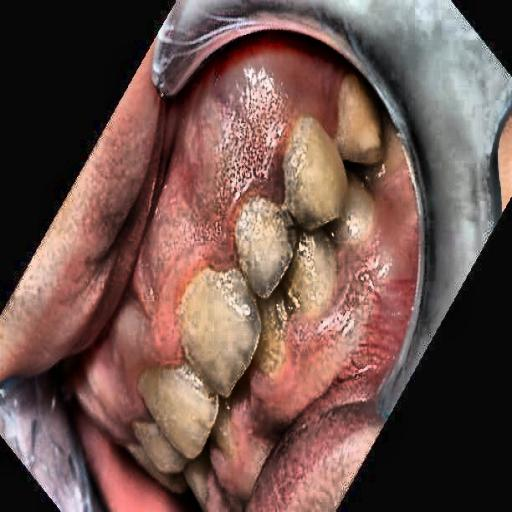Calculus: (235, 103, 359, 371)
